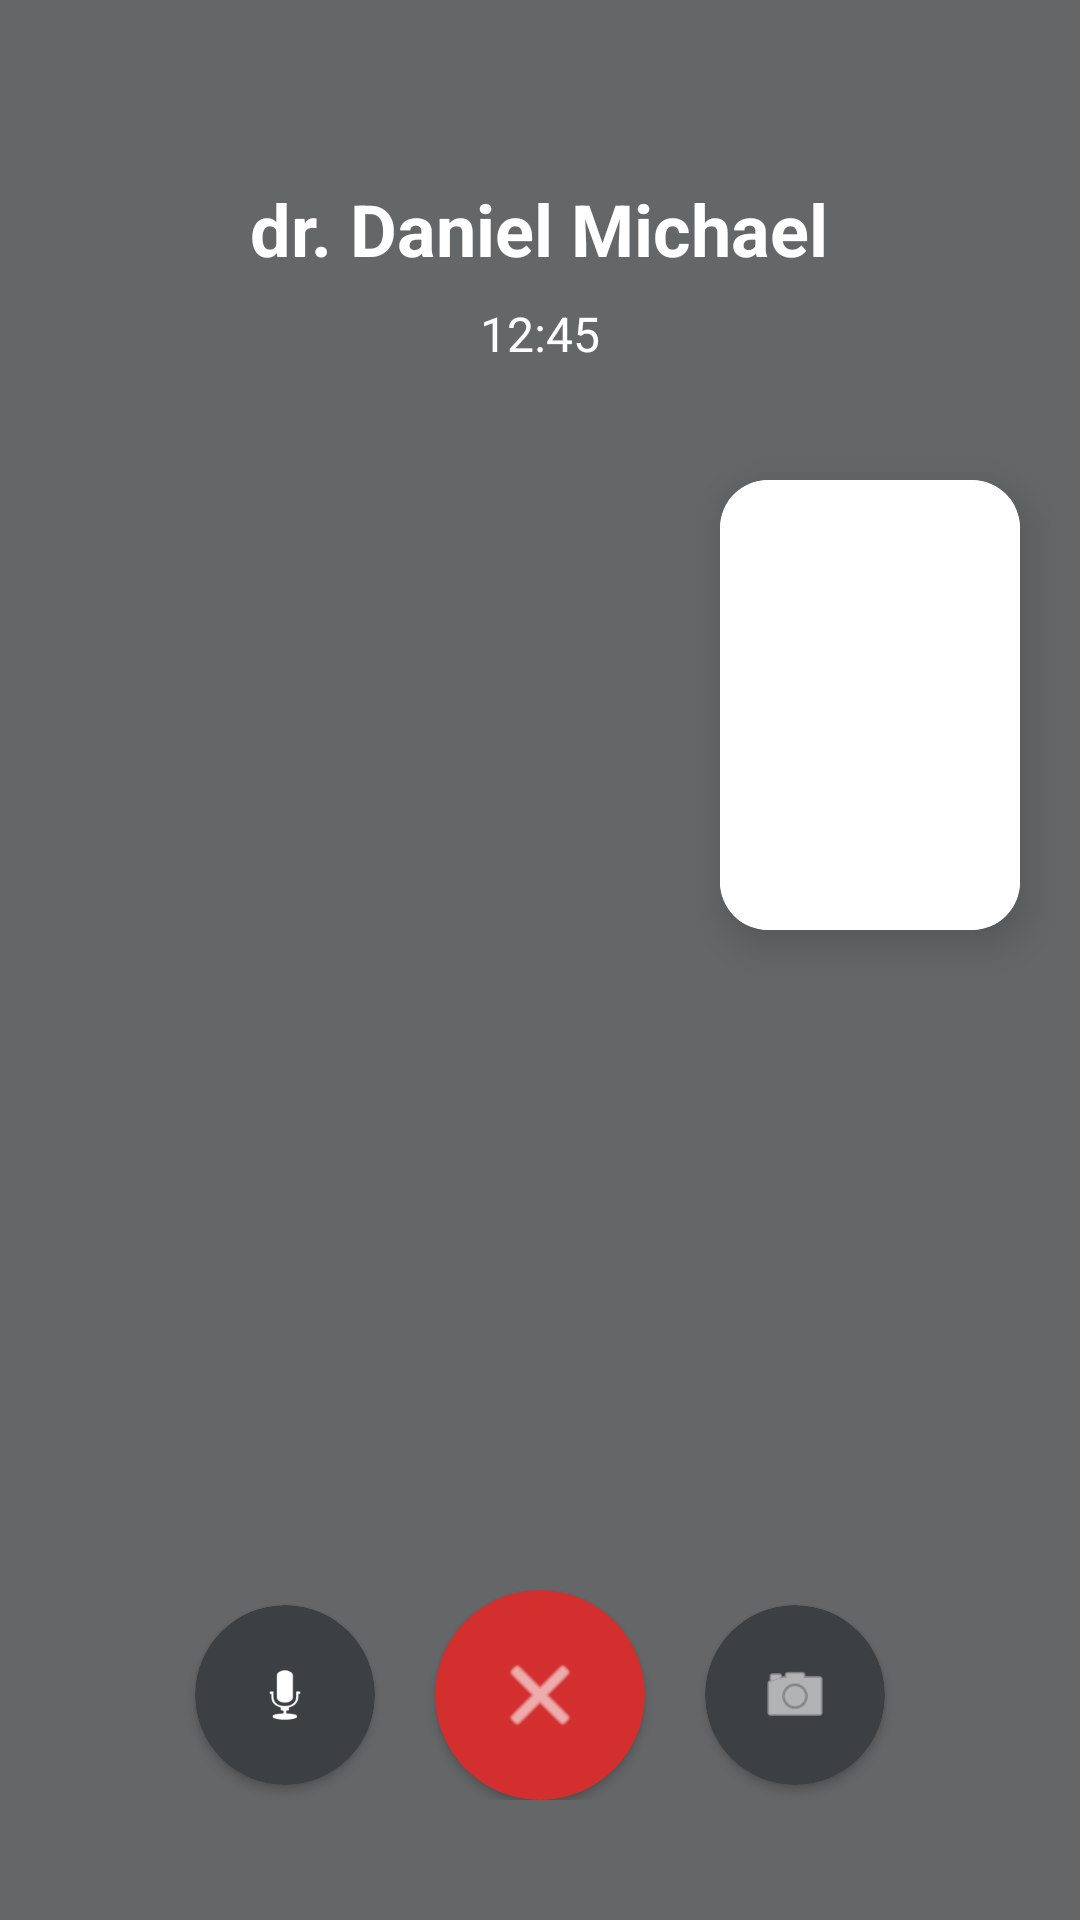

Icons on this 1080w x 1920h Android screen, each with its box as [x1, y1, x2, y2]:
camera: [767, 1672, 823, 1716]
close clear cancel: [510, 1665, 570, 1725]
speak now: [269, 1670, 301, 1720]
